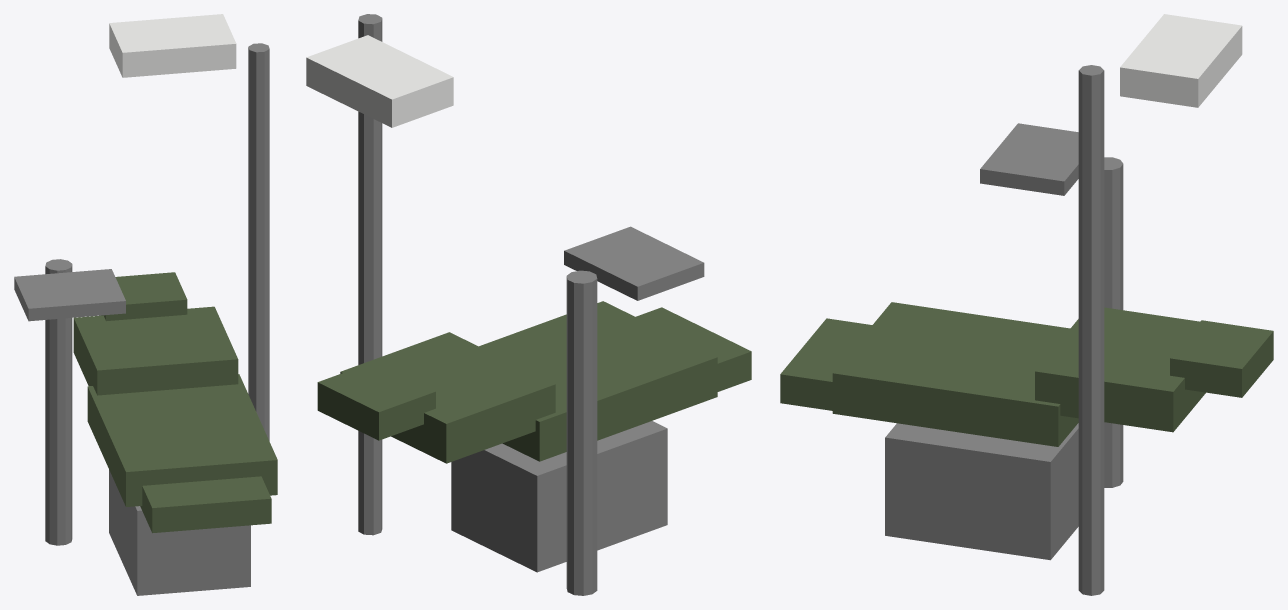
3 renders of one model, left to right at view 1: azimuth 30°, elevation 25°; view 2: azimuth 150°, elevation 25°; view 3: azimuth 270°, elevation 25°, orthographic. The views are drawn at different scales.
Parts seen in each view (by area): view 1: sillon_ortho_2; view 2: sillon_ortho_2; view 3: sillon_ortho_2.
Part boxes in pixels (x1,y1,x2,y2): sillon_ortho_2: [14, 14, 277, 595]; sillon_ortho_2: [306, 14, 751, 595]; sillon_ortho_2: [780, 14, 1273, 595].
Bounding box in the file's own units: 1.14 × 1.55 × 1.8.
